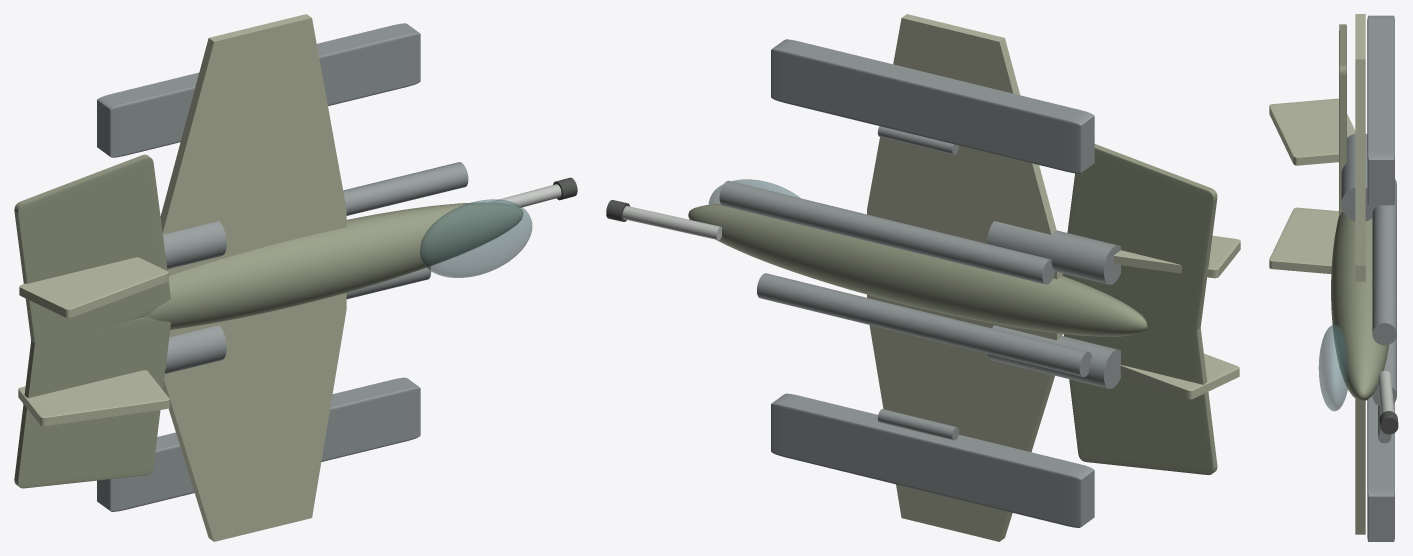
File: v-u30-vanguard-aerial-artillery-lod1.glb
The picture shows the model from 3 angles, left to right: view 1: azimuth 30°, elevation 25°; view 2: azimuth 150°, elevation 25°; view 3: azimuth 270°, elevation 25°; orthographic projection. The views are drawn at different scales.
Visible parts, largest first — view 1: combat_main_wing, combat_fuselage, combat_tailplane_1, combat_tailplane_-1, artillery_pod_1, artillery_pod_-1, combat_canopy, combat_fin_-1, combat_fin_1, aerial_launcher_5, combat_engine_1, combat_engine_0 (+3 smaller); view 2: combat_main_wing, combat_fuselage, artillery_pod_1, artillery_pod_-1, combat_tailplane_1, combat_tailplane_-1, aerial_launcher_1, combat_engine_1, aerial_launcher_0, aerial_launcher_5, aerial_launcher_4, aerial_launcher_2 (+7 smaller); view 3: combat_fuselage, artillery_pod_1, combat_main_wing, combat_fin_1, combat_fin_-1, artillery_pod_-1, combat_canopy, aerial_launcher_5, aerial_launcher_3, combat_engine_1, combat_tailplane_1, aerial_launcher_4 (+4 smaller).
Boxes of the visible parts, left/top/right/bottom form: combat_main_wing: left=160, top=14, right=346, bottom=541; combat_fuselage: left=140, top=202, right=522, bottom=329; combat_tailplane_1: left=14, top=154, right=170, bottom=343; combat_tailplane_-1: left=14, top=317, right=170, bottom=488; artillery_pod_1: left=97, top=23, right=420, bottom=157; artillery_pod_-1: left=97, top=377, right=420, bottom=511; combat_canopy: left=420, top=199, right=532, bottom=277; combat_fin_-1: left=18, top=370, right=169, bottom=426; combat_fin_1: left=19, top=257, right=168, bottom=317; aerial_launcher_5: left=343, top=162, right=468, bottom=214; combat_engine_1: left=163, top=221, right=226, bottom=269; combat_engine_0: left=165, top=325, right=226, bottom=373; combat_main_wing: left=867, top=14, right=1062, bottom=541; combat_fuselage: left=688, top=204, right=1147, bottom=336; artillery_pod_1: left=771, top=39, right=1094, bottom=173; artillery_pod_-1: left=771, top=393, right=1094, bottom=527; combat_tailplane_1: left=1062, top=144, right=1217, bottom=330; combat_tailplane_-1: left=1063, top=318, right=1217, bottom=474; aerial_launcher_1: left=868, top=217, right=1054, bottom=284; combat_engine_1: left=986, top=221, right=1120, bottom=284; aerial_launcher_0: left=906, top=313, right=1092, bottom=377; aerial_launcher_5: left=719, top=180, right=899, bottom=247; aerial_launcher_4: left=757, top=273, right=933, bottom=337; aerial_launcher_2: left=831, top=291, right=1013, bottom=358; combat_fuselage: left=1331, top=211, right=1388, bottom=401; artillery_pod_1: left=1367, top=15, right=1394, bottom=205; combat_main_wing: left=1355, top=14, right=1365, bottom=534; combat_fin_1: left=1269, top=98, right=1355, bottom=165; combat_fin_-1: left=1269, top=207, right=1338, bottom=273; artillery_pod_-1: left=1367, top=395, right=1394, bottom=541; combat_canopy: left=1318, top=325, right=1348, bottom=411; aerial_launcher_5: left=1372, top=244, right=1396, bottom=345; aerial_launcher_3: left=1372, top=208, right=1396, bottom=298; combat_engine_1: left=1341, top=133, right=1377, bottom=220; combat_tailplane_1: left=1339, top=24, right=1346, bottom=216; aerial_launcher_4: left=1372, top=336, right=1396, bottom=406.
Size of what is drawn, in the model's own units: 15.44 by 12.7 by 3.13.
